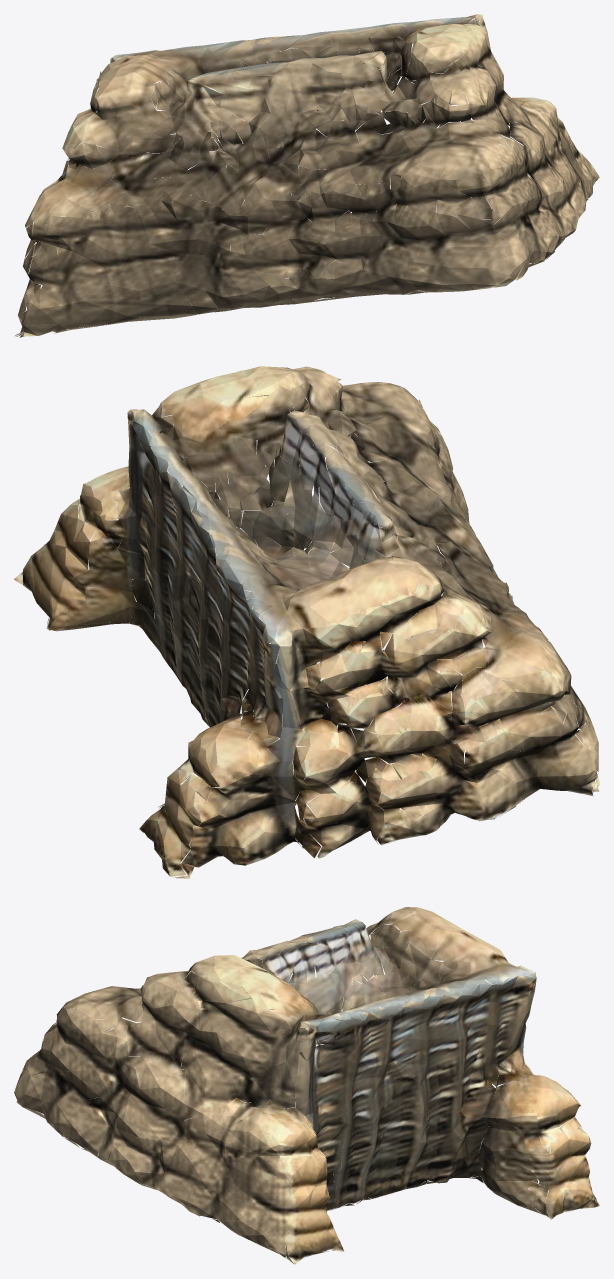
File: barricade.glb
3 renders of one model, top to bottom at view 1: azimuth 30°, elevation 25°; view 2: azimuth 150°, elevation 25°; view 3: azimuth 270°, elevation 25°, orthographic. The views are drawn at different scales.
Visible parts, largest first — view 1: world; view 2: world; view 3: world.
Part boxes in pixels (<box>): world: <box>14,14,599,337</box>; world: <box>14,366,599,878</box>; world: <box>14,907,599,1264</box>.
Bounding box in the file's own units: 0.9732 × 0.4958 × 0.8964.
1 material, 1 textured.
